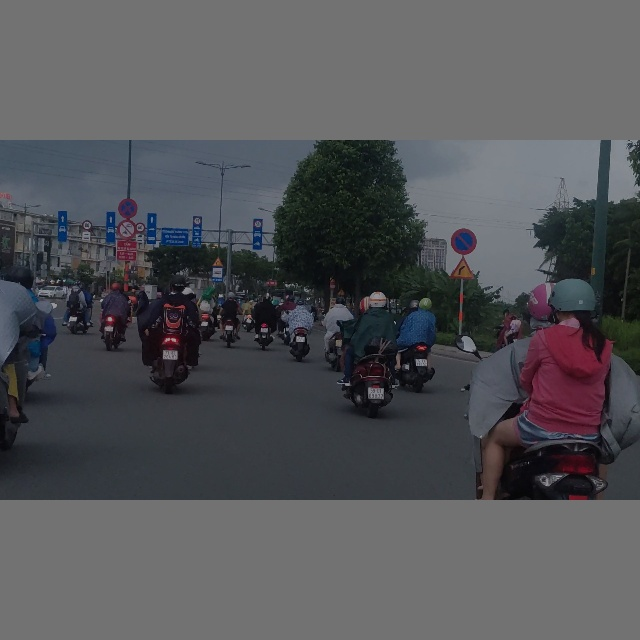I.434a: (212, 267, 224, 282)
P.111: (117, 219, 136, 240)
P.127*50: (193, 217, 202, 225), (254, 221, 262, 228)
P.127*80: (82, 219, 92, 230)
P.130: (117, 198, 138, 218)
P.131a: (451, 229, 477, 255)
S.505a*Xe tai va cong: (136, 234, 144, 243)
W.201b: (450, 257, 474, 279), (212, 256, 224, 267)
